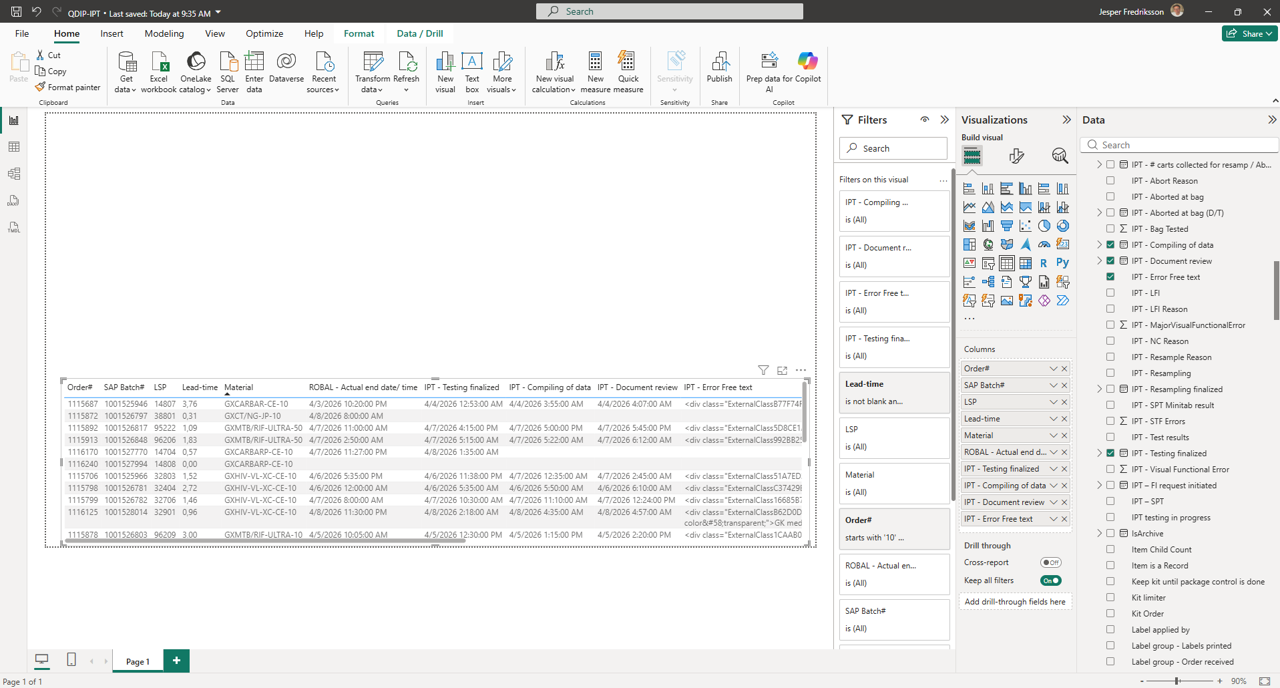

What the dashboard file says about the page in this screenshot:
{"tool":"powerbi","page":{"name":"Page 2","canvas":[1280,720],"ordinal":5},"visuals":[{"type":"tableEx","fields":{"Values":["Cepheid | Production orders.Work Center","Cepheid | Production orders.LSP","Cepheid | Production orders.Material","Cepheid | Production orders.ROBAL - Actual end date/ time","Sum(Cepheid | Production orders.Lead-time_Num)","Cepheid | Production orders.Packing info","Cepheid | Production orders.IPT - Compiling of data","Cepheid | Production orders.IPT - Test results","Cepheid | Production orders.IPT - Document review"]},"box":[96,256,1184,176],"z":0}]}

Visuals, with their boxes on the page's 1280x720 design canvas (x1, y1, x2, y2). These are canvas units, not pixel positions in the 1280x688 screenshot, which may show the page scaled, cropped or inside an application window:
tableEx - Cepheid | Production orders.Work Center x Cepheid | Production orders.LSP: bbox(96, 256, 1280, 432)
